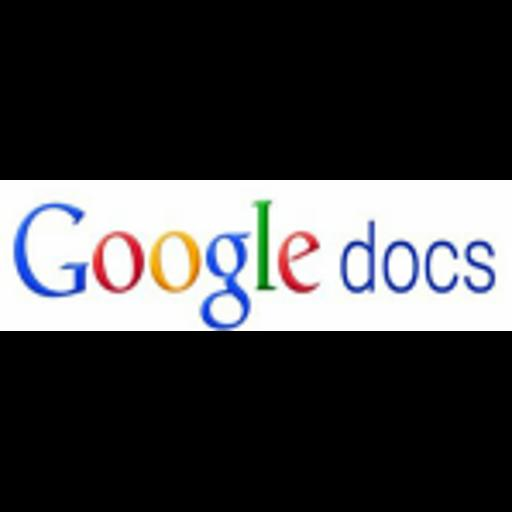Google: (0, 180, 512, 331)
